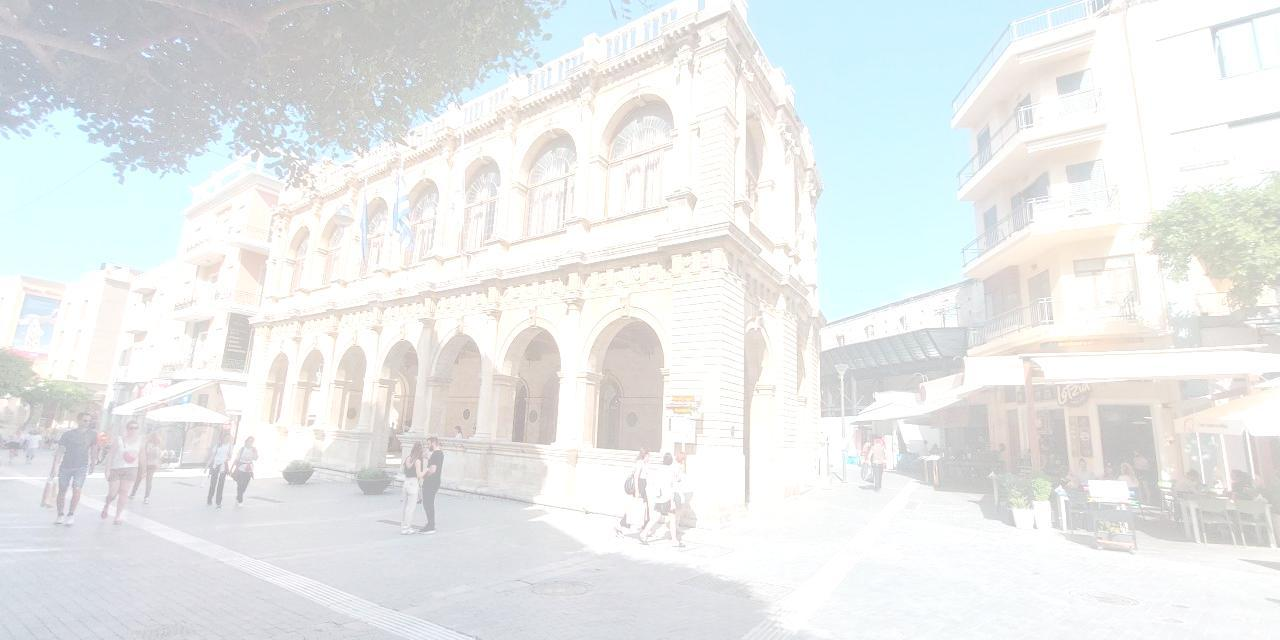Loggia: (231, 1, 842, 537)
